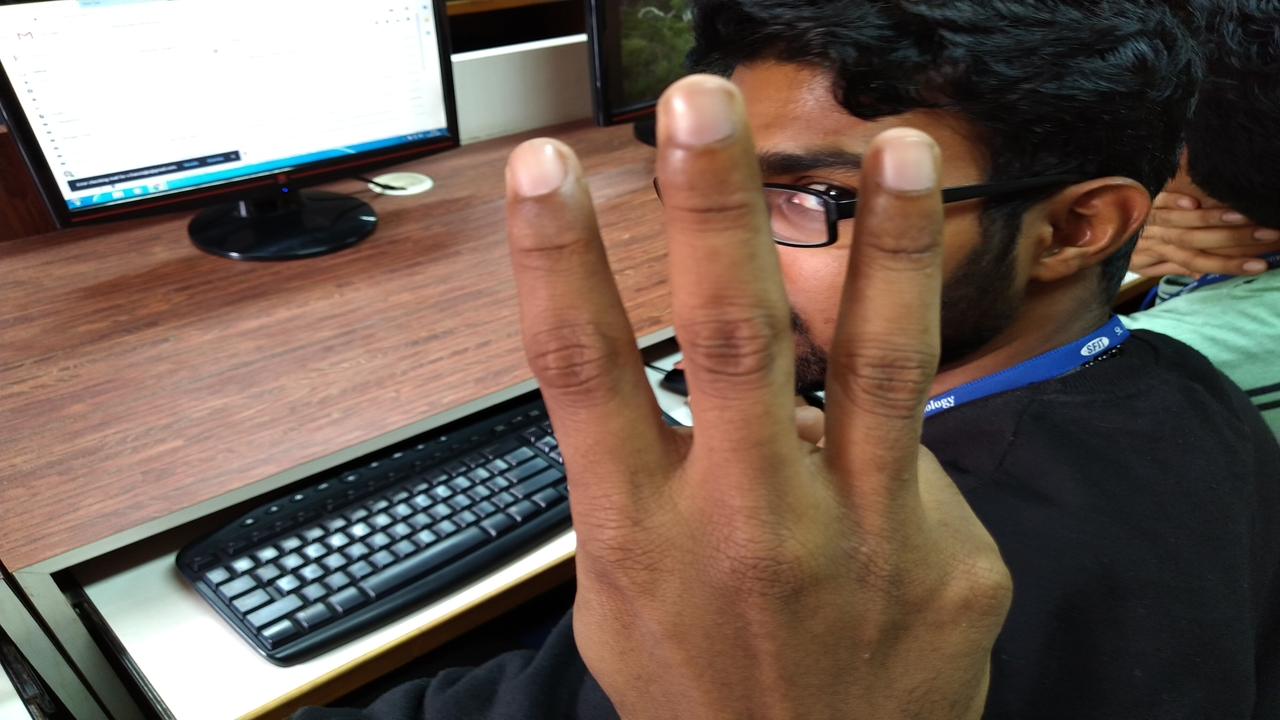fingertip: (640, 70, 757, 156), (488, 132, 588, 208), (864, 124, 952, 206)
